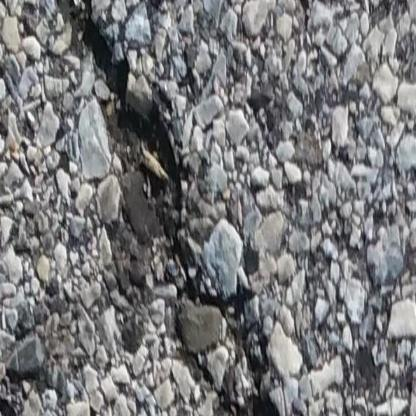Cracks: (73, 0, 285, 416)
